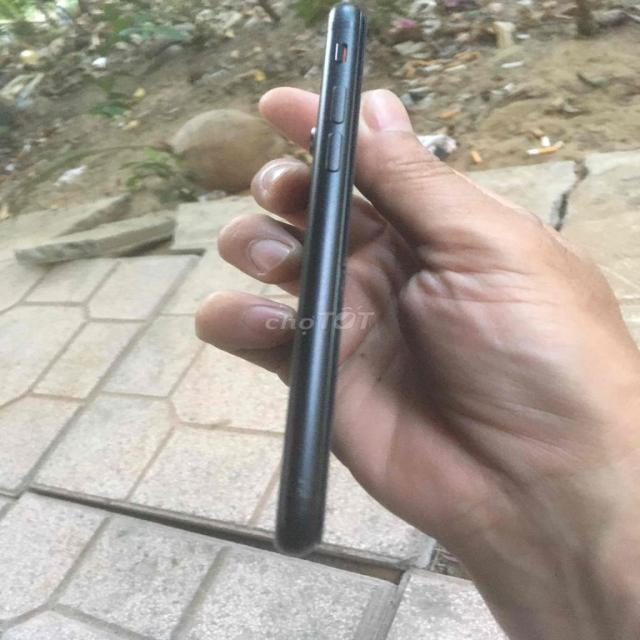gen_7_8: (272, 3, 361, 568)
